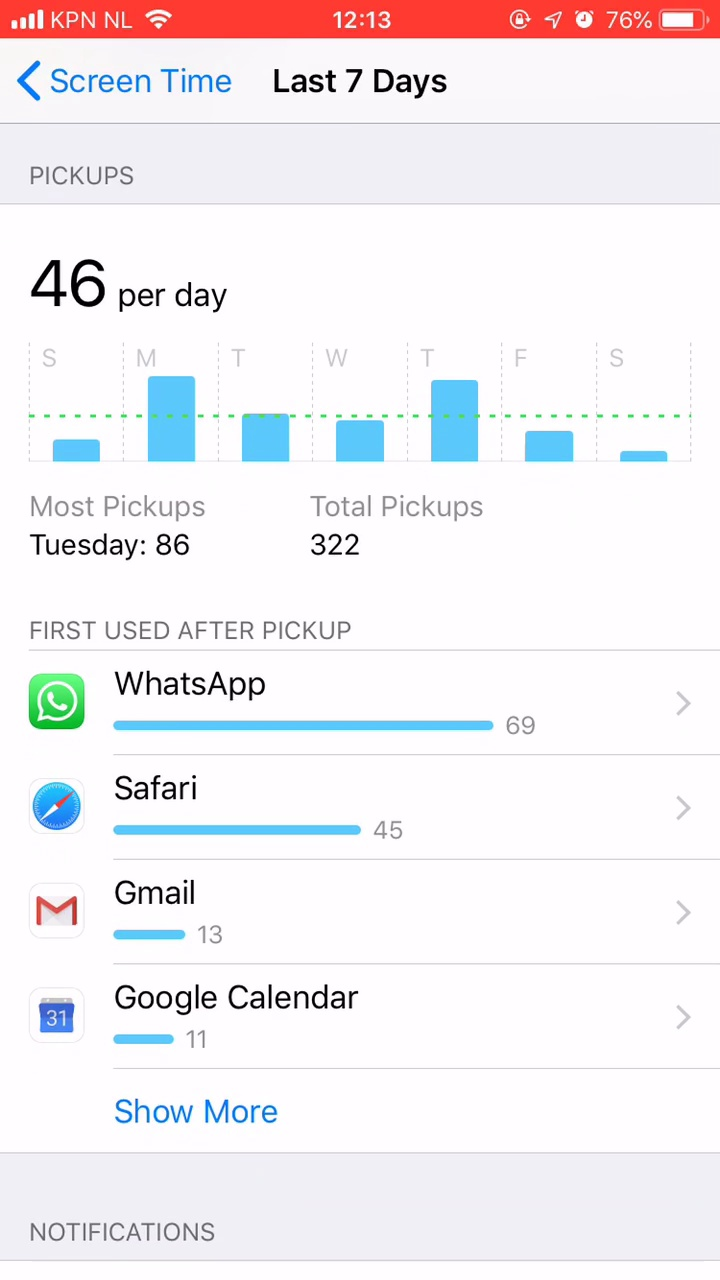pick_app: (23, 664, 587, 752), (21, 971, 398, 1052), (26, 771, 428, 844), (21, 869, 257, 949)
pick_over: (17, 485, 550, 578)
week: (262, 63, 466, 105)
